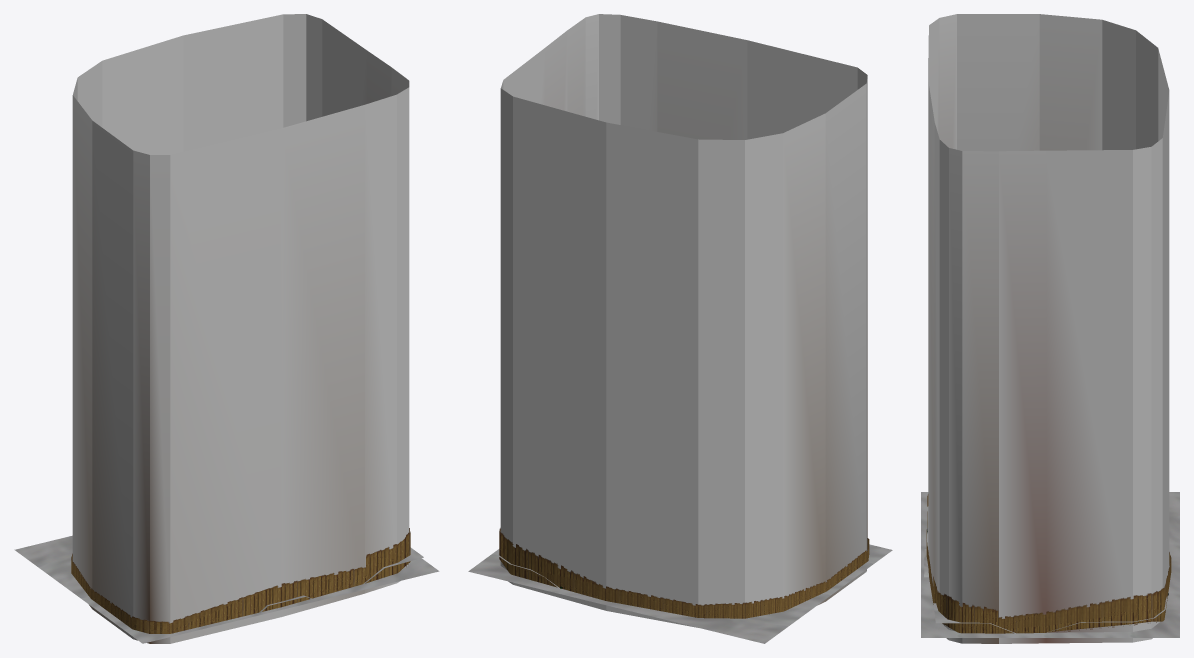
The model's file is Tutorial.FBX.
3 renders of one model, left to right at view 1: azimuth 30°, elevation 25°; view 2: azimuth 150°, elevation 25°; view 3: azimuth 270°, elevation 25°, orthographic.
Visible parts, largest first — view 1: Area Collide, Fence, Plane01; view 2: Area Collide, Fence, Plane01; view 3: Area Collide, Fence, Plane01, Quarter Bowls.
Boxes of the visible parts, x1,y1,x2,y2 form: Area Collide: (72, 14, 409, 643); Fence: (71, 528, 410, 633); Plane01: (14, 535, 439, 643); Area Collide: (500, 14, 867, 627); Fence: (499, 528, 869, 618); Plane01: (468, 544, 892, 643); Area Collide: (928, 14, 1169, 643); Fence: (926, 494, 1171, 633); Plane01: (921, 492, 1179, 637); Quarter Bowls: (932, 595, 1168, 633).
Bounding box in the file's own units: 11917 × 18807 × 8924.
